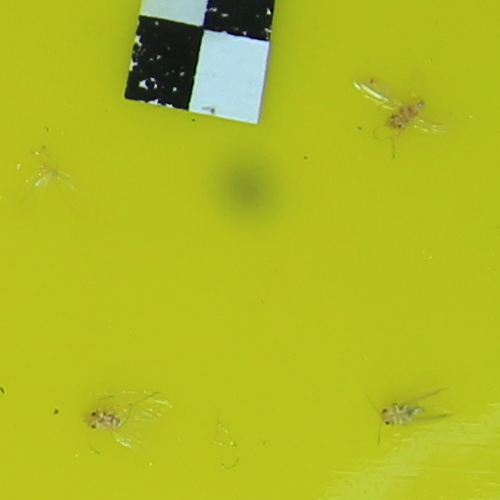Glycaspis: (386, 99, 426, 131), (382, 400, 426, 427), (85, 405, 122, 434)
